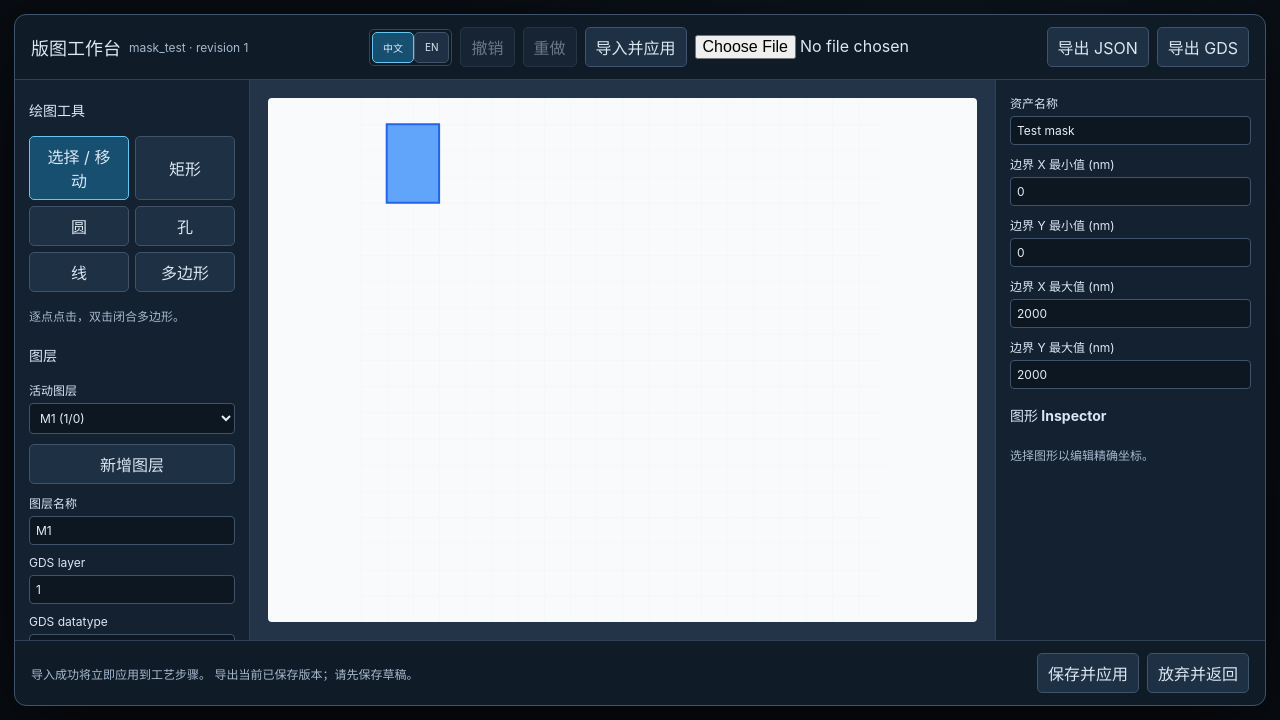
Test case: Mask Workbench session › retains draft and old revision after save failure
Replace the text in the field labelled "资产名称" with "Keep". click: point(1130, 130)
box: x1=1010 y1=116 x2=1251 y2=145
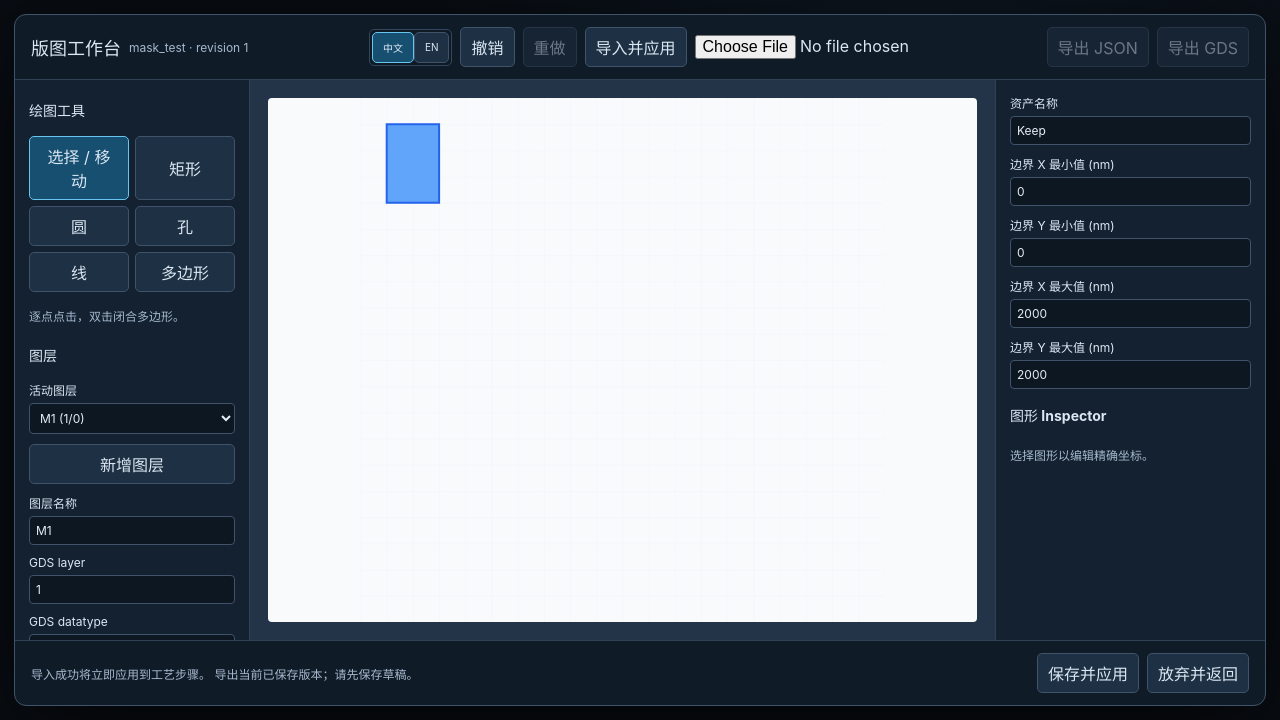
Click the button "保存并应用". click: point(1088, 673)
box: x1=1037 y1=653 x2=1139 y2=693
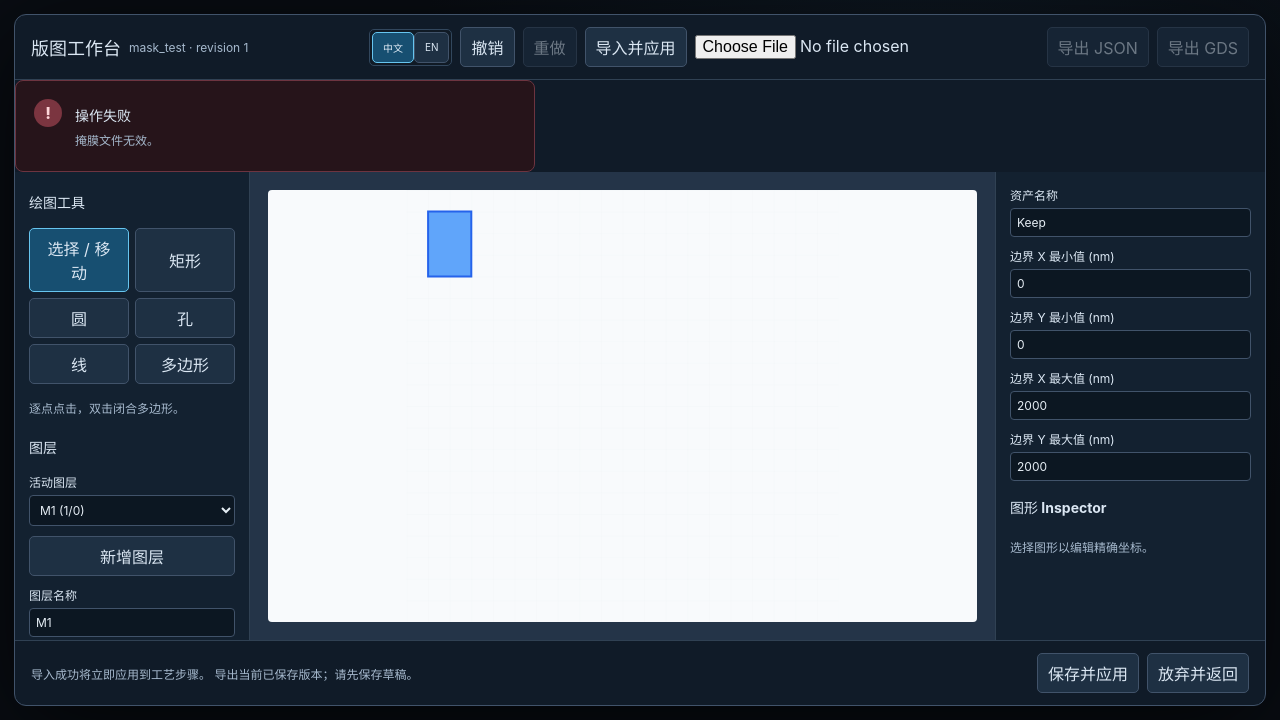
Expected: the text "mask_test · revision 1" is shown, x1=129 y1=40 x2=248 y2=54
Expected: the message "! 操作失败 掩膜文件无效。" is shown, x1=15 y1=80 x2=535 y2=172
